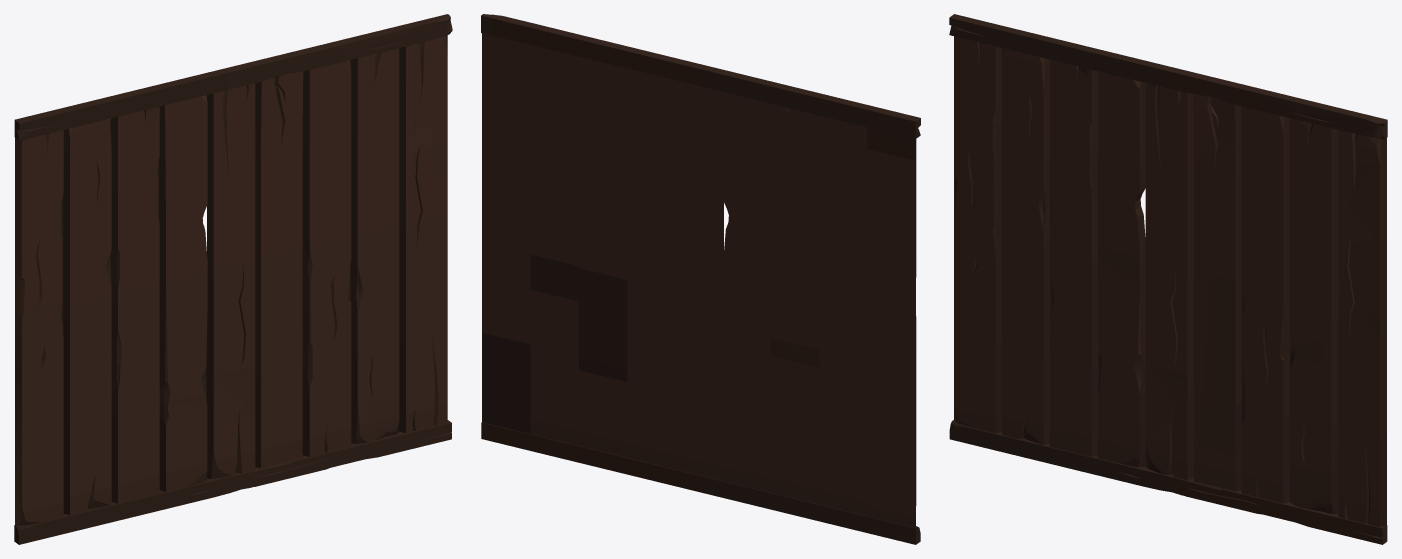
Rendered from SM_Wall.fbx.
3 views of the same model, side by side, from view 1: azimuth 30°, elevation 25°; view 2: azimuth 150°, elevation 25°; view 3: azimuth 330°, elevation 25° (orthographic).
Visible parts, largest first — view 1: group3_plank; view 2: group3_plank; view 3: group3_plank.
Boxes of the visible parts, bbox=[...] form: group3_plank: bbox=[14, 14, 452, 544]; group3_plank: bbox=[481, 14, 920, 544]; group3_plank: bbox=[949, 14, 1387, 544].
Bounding box in the file's own units: 509 × 473 × 10.48.
